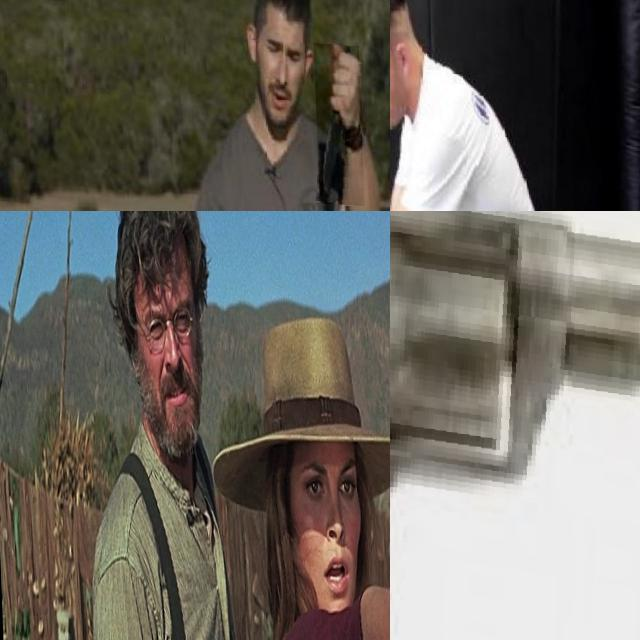-: (313, 38, 363, 201)
gun-knife-thesis - v11 Yolov5 augmented: (390, 211, 640, 640)
